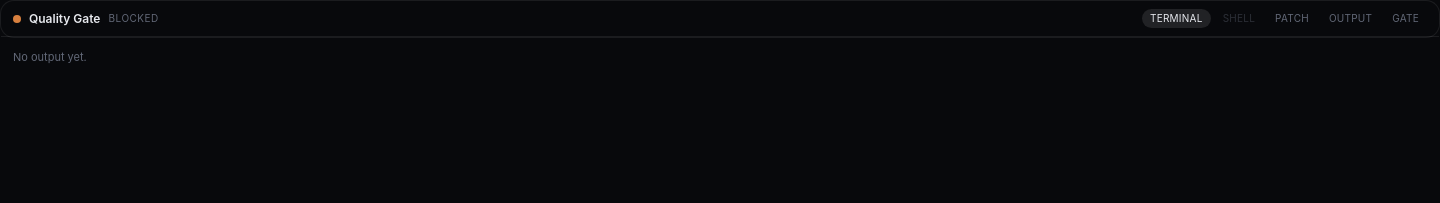
RunTerminal — shell tab gating › renders blocked Gate summaries without treating them as crashes
Click the button "gate". click: (1406, 18)
box: [1384, 9, 1427, 28]
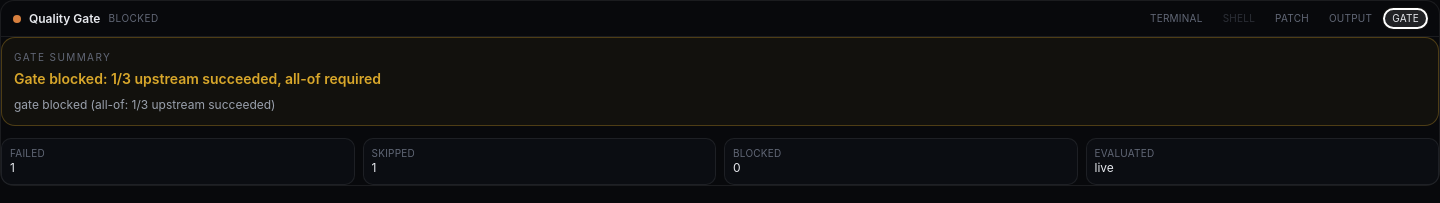
Expected: the text "Gate blocked: 1/3 upstream succeeded, all-of required" is shown, [14, 70, 381, 87]
Expected: the text "gate blocked (all-of: 1/3 upstream succeeded)" is shown, [14, 97, 276, 112]
